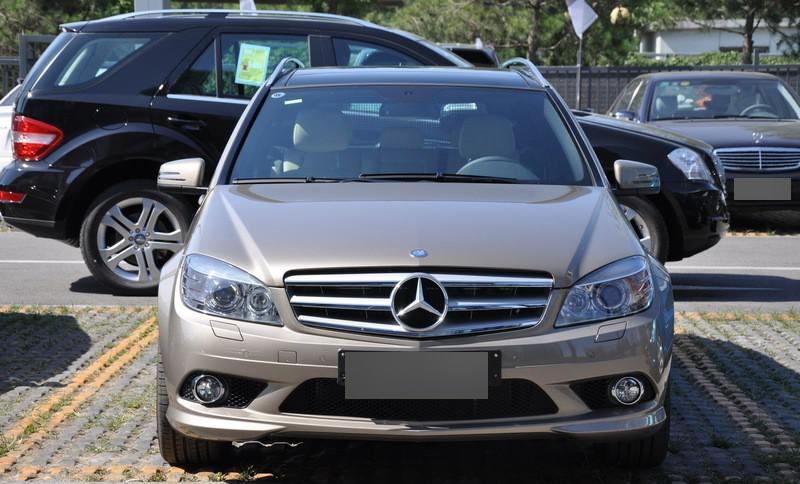Wagon: (156, 56, 677, 469)
